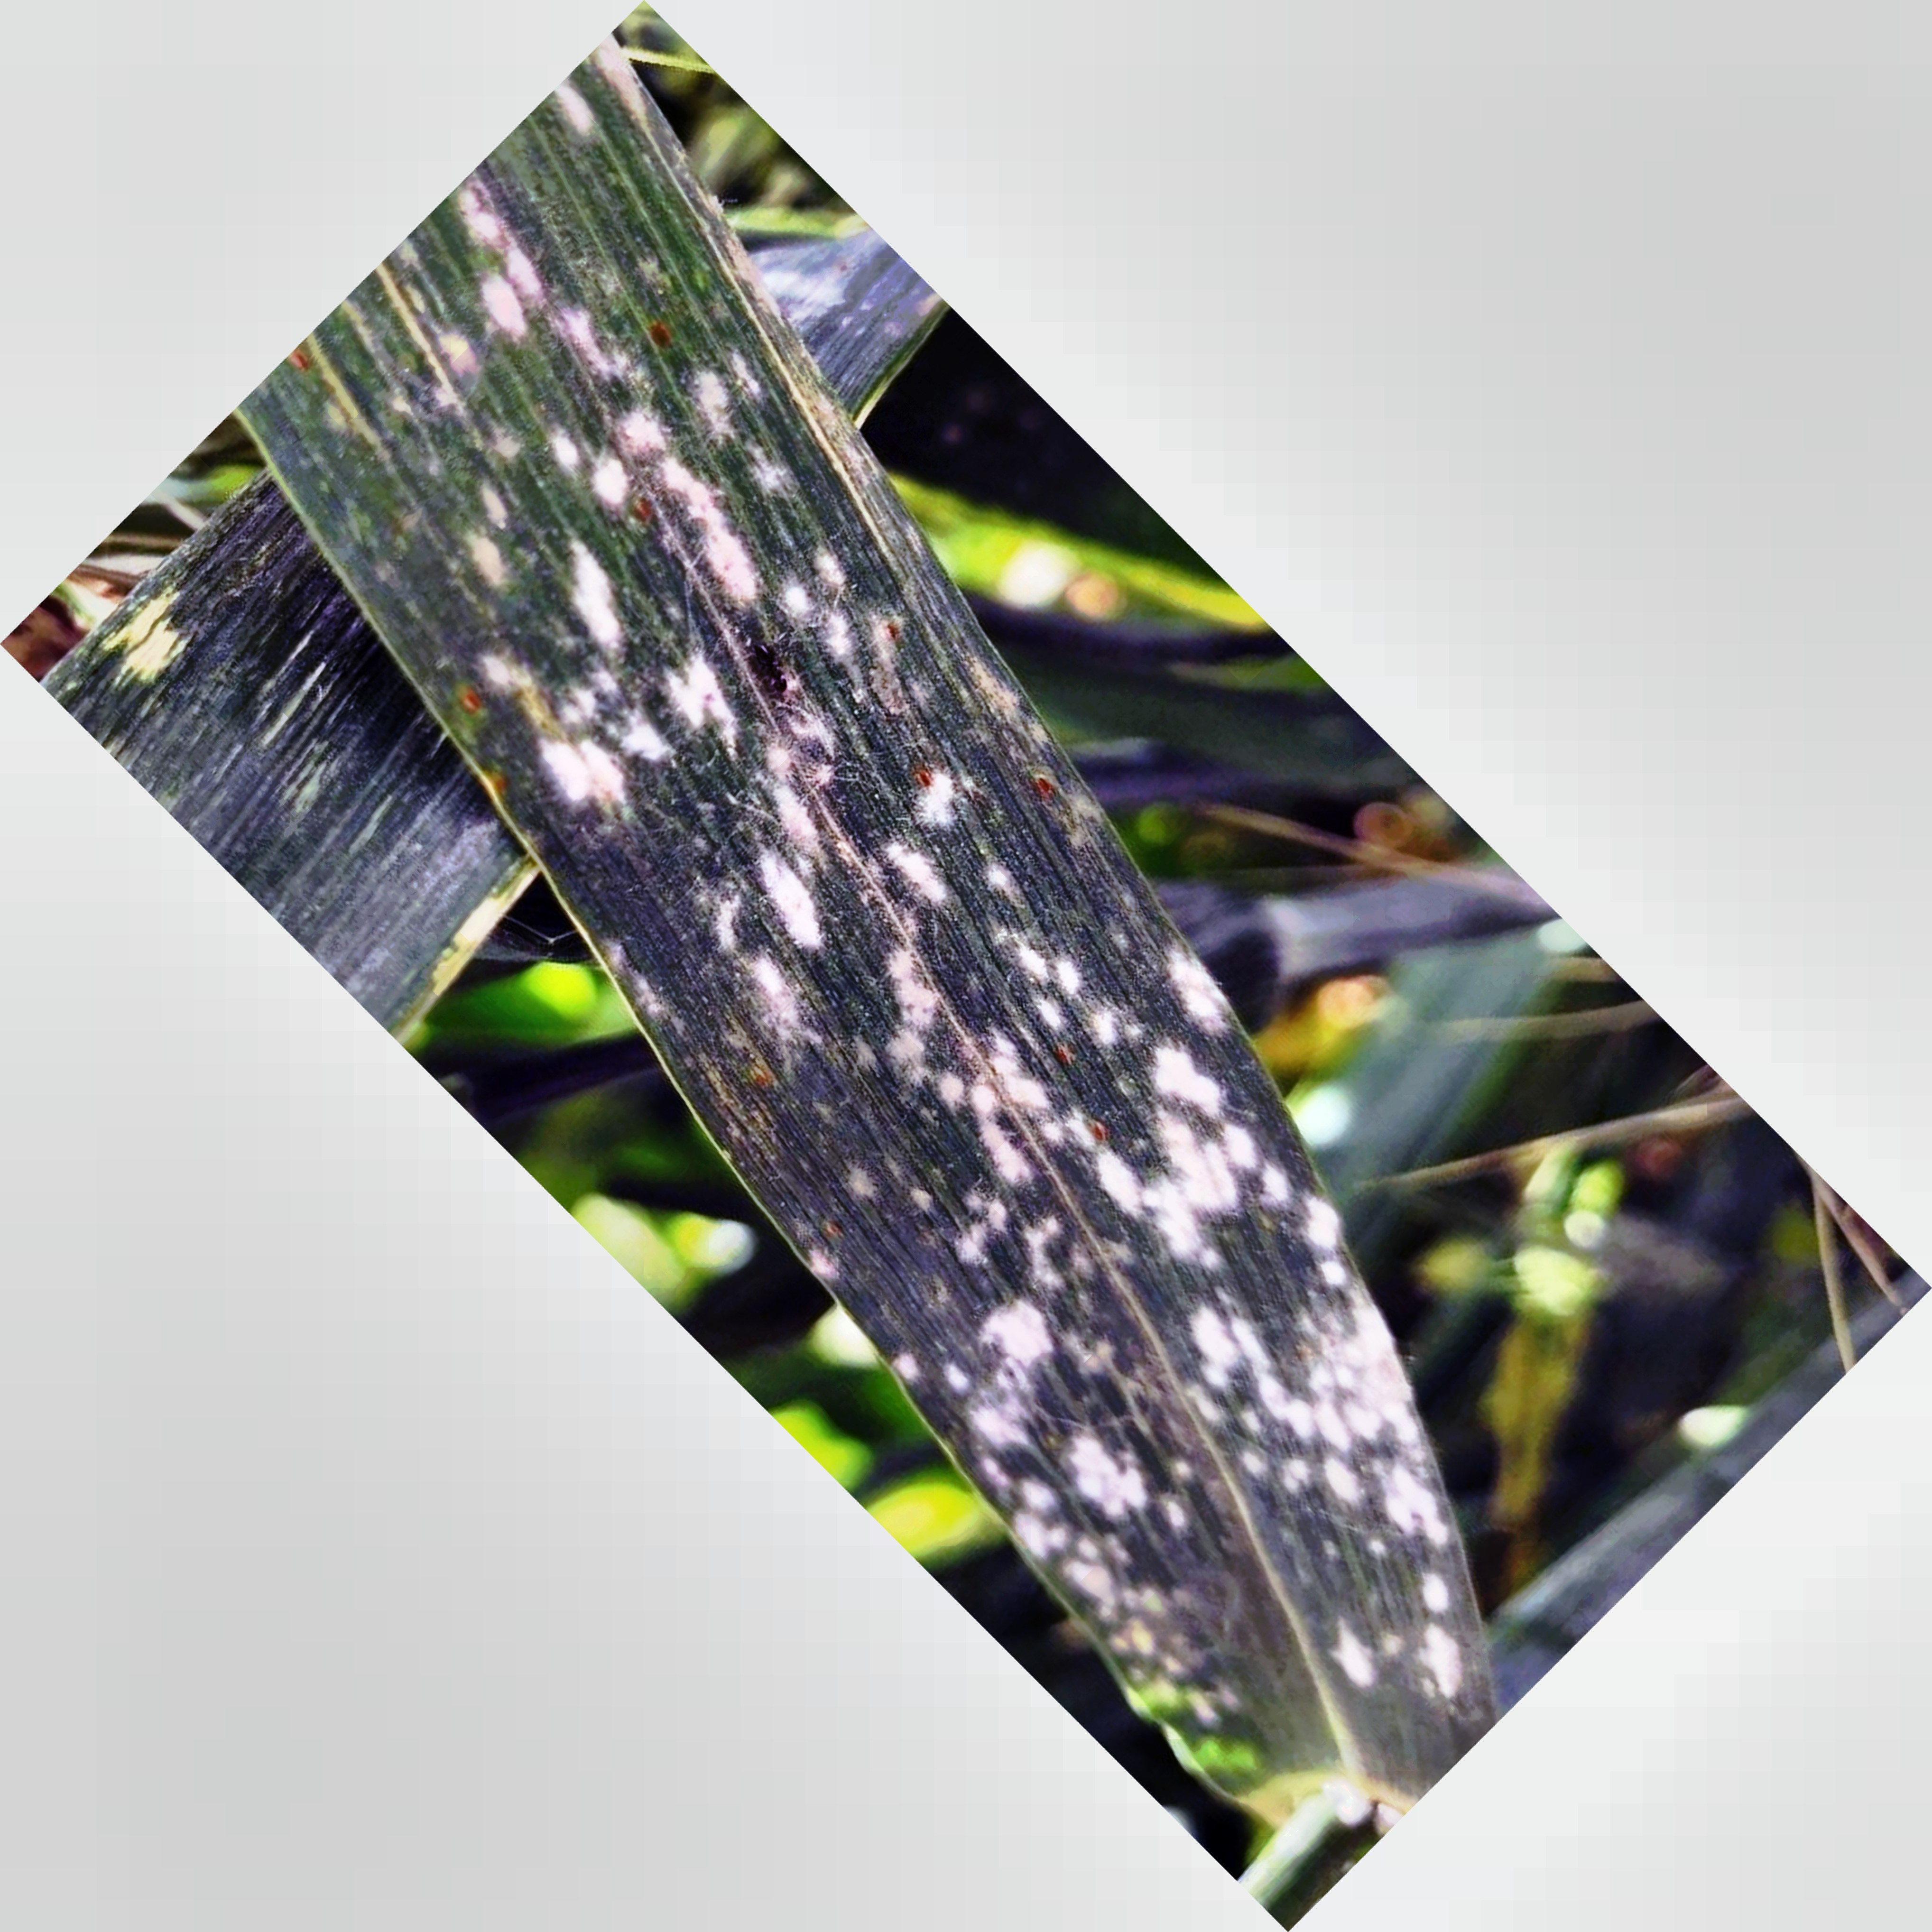Powdery Mildew: (534, 506, 1431, 1668)
